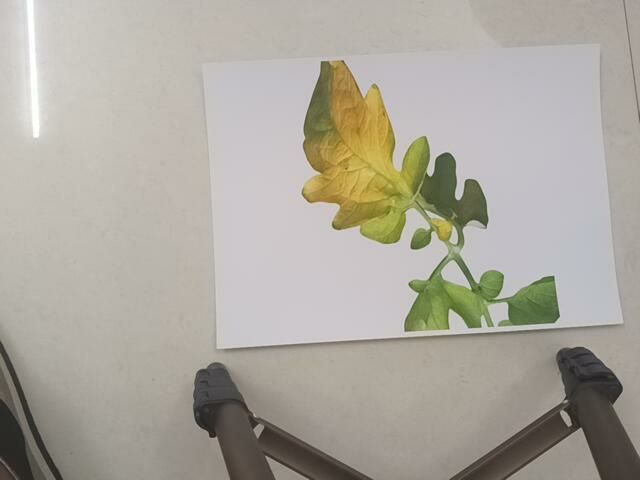Tomamto_Yellow_Disease: (287, 62, 585, 331)
